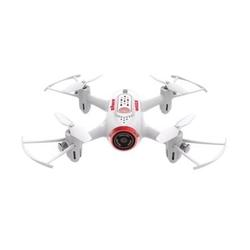drone: (22, 72, 230, 172)
